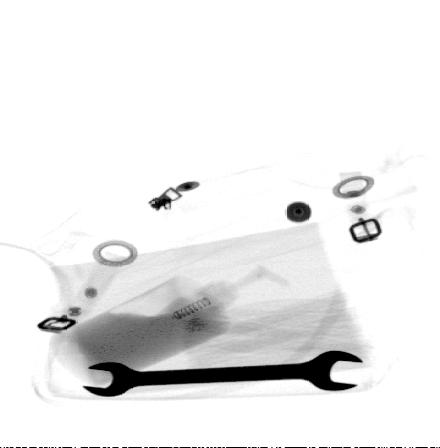Wrench: (80, 348, 366, 400)
